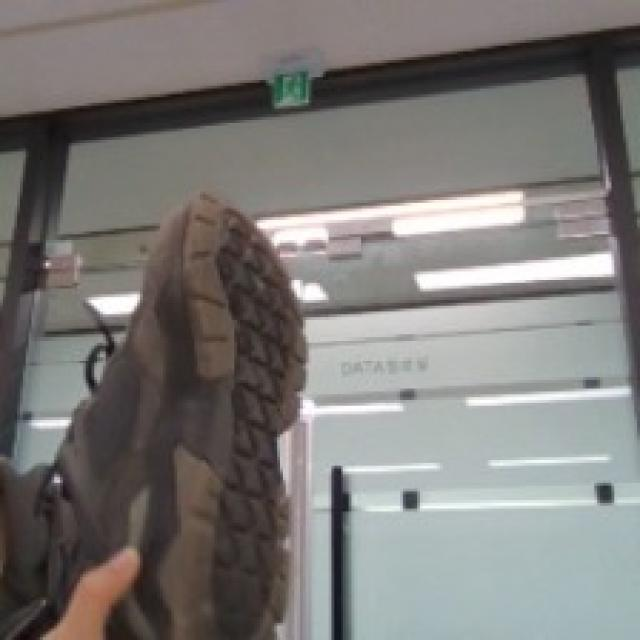shoe: (29, 182, 311, 640)
